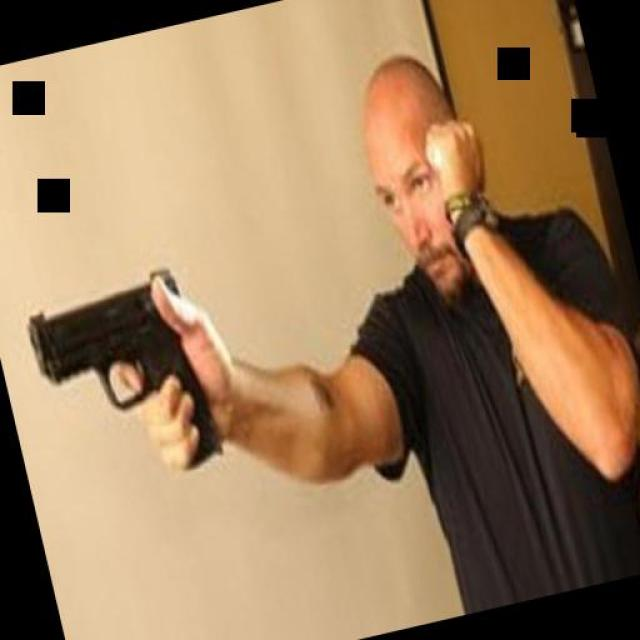gun: (5, 245, 241, 519)
